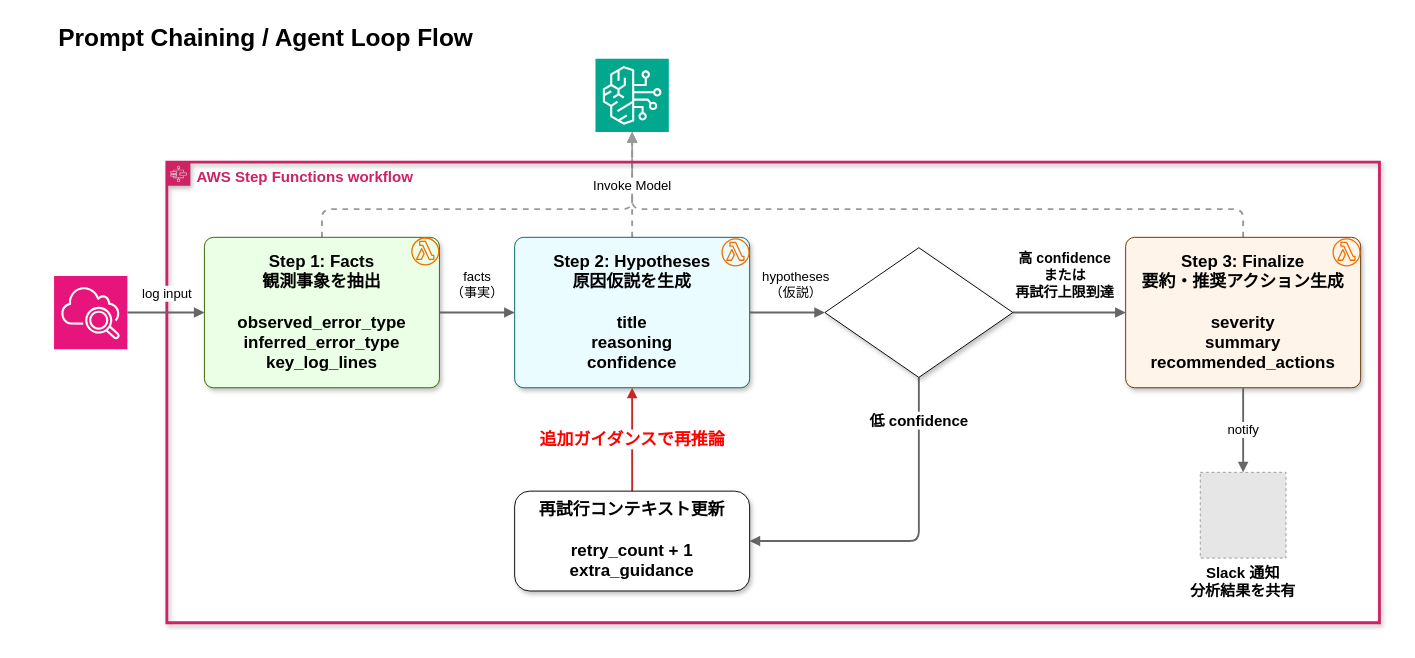
This 1415x658 diagram has some shape labels left out. Grey dashed boxes stand in for pictures. Here are the shapes that lost their labels. From the top down, the centre of each, then its label:
the point at 632,95: Amazon Bedrock (Claude Sonnet)
the point at 90,312: CloudWatch Logs （エラーログ）
the point at 919,313: 仮説の信頼度チェック top_confidence >= 85
